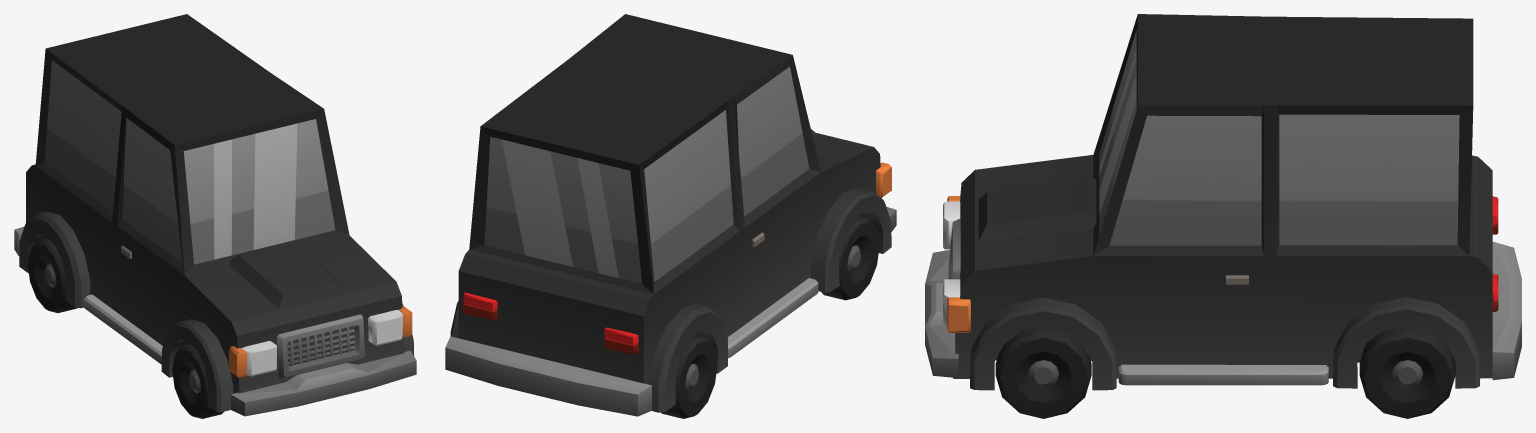
Rendered from Car_5_1.glb.
The picture shows the model from 3 angles, left to right: view 1: azimuth 30°, elevation 25°; view 2: azimuth 150°, elevation 25°; view 3: azimuth 270°, elevation 25°; orthographic projection. The views are drawn at different scales.
Parts seen in each view (by area): view 1: Car_5_1, W_br, W_fr; view 2: Car_5_1, W_br, W_fr; view 3: Car_5_1, W_bl, W_fl.
Boxes of the visible parts, left/top/right/bottom form: Car_5_1: left=14, top=14, right=416, bottom=416; W_br: left=27, top=237, right=77, bottom=312; W_fr: left=172, top=343, right=223, bottom=418; Car_5_1: left=445, top=14, right=896, bottom=416; W_br: left=661, top=334, right=717, bottom=418; W_fr: left=821, top=216, right=879, bottom=300; Car_5_1: left=925, top=14, right=1521, bottom=390; W_bl: left=1359, top=325, right=1455, bottom=418; W_fl: left=995, top=327, right=1091, bottom=418.
Bounding box in the file's own units: 1.13 × 1.3 × 2.33.
Materials: 6 (6 with a texture image).
